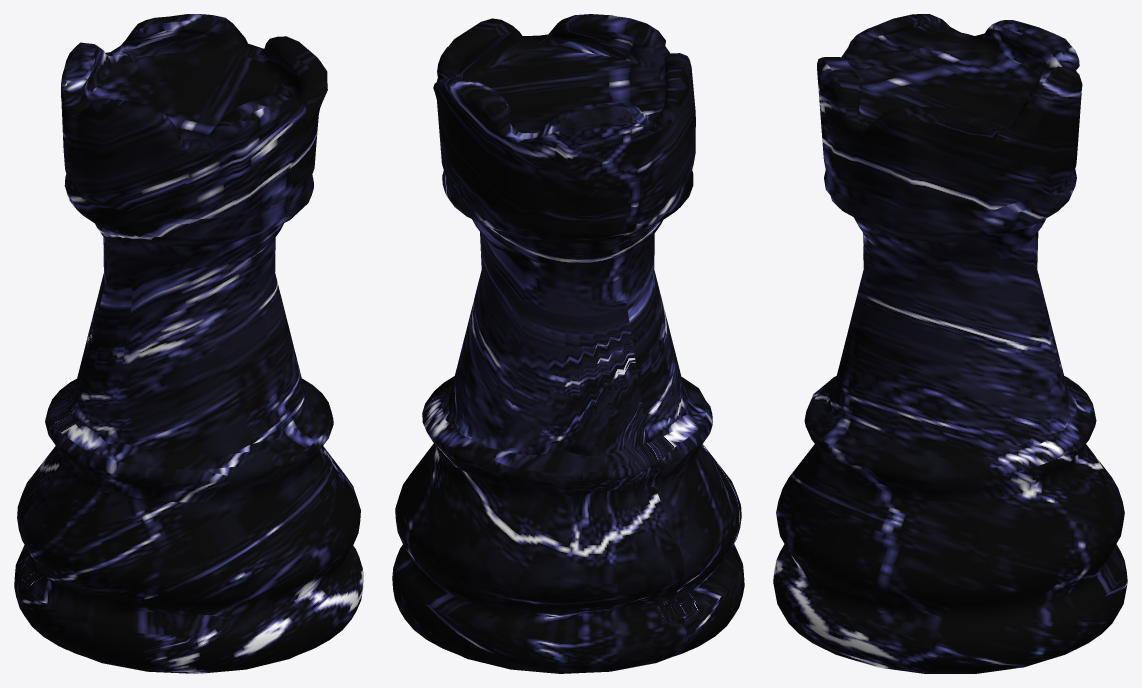
File: black_rook.glb
3 views of the same model, side by side, from view 1: azimuth 30°, elevation 25°; view 2: azimuth 150°, elevation 25°; view 3: azimuth 270°, elevation 25° (orthographic).
Visible parts, largest first — view 1: Circle.007; view 2: Circle.007; view 3: Circle.007.
Boxes of the visible parts, x1,y1,x2,y2 form: Circle.007: (14, 14, 363, 673); Circle.007: (392, 14, 744, 673); Circle.007: (773, 14, 1127, 673).
Bounding box in the file's own units: 1.25 × 2.14 × 1.25.
Materials: 1 (1 with a texture image).
